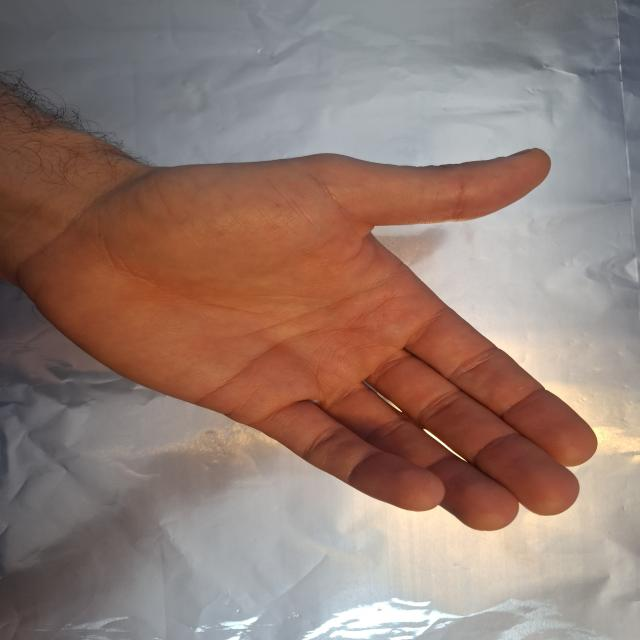glove_off: (15, 143, 601, 533)
